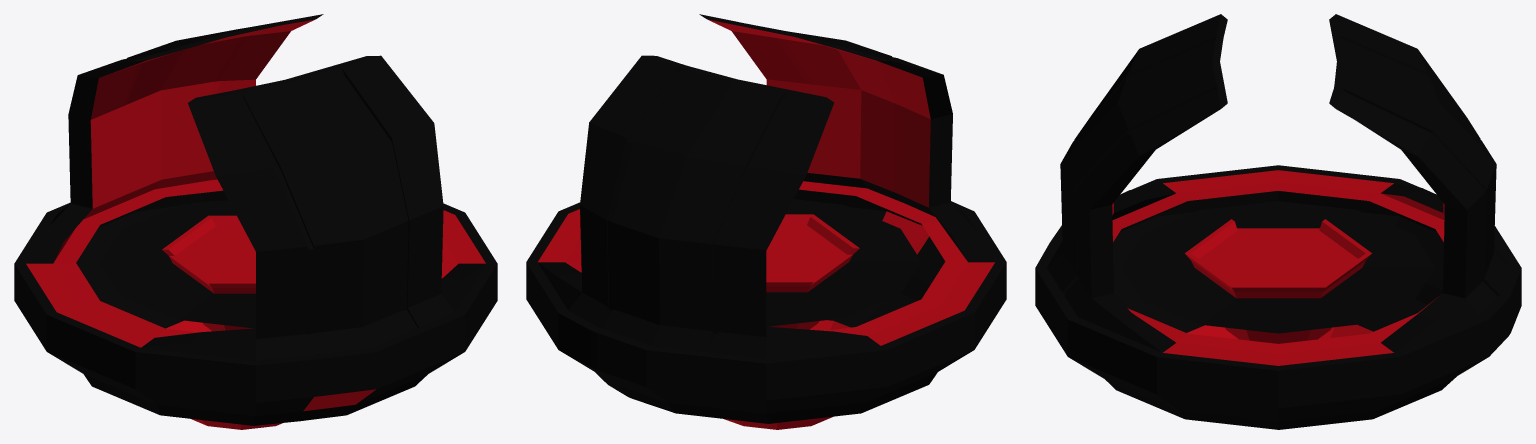
The model's file is Teleport Platform 1.fbx.
3 renders of one model, left to right at view 1: azimuth 30°, elevation 25°; view 2: azimuth 150°, elevation 25°; view 3: azimuth 270°, elevation 25°, orthographic.
Visible parts, largest first — view 1: Teleport Platform; view 2: Teleport Platform; view 3: Teleport Platform.
Part boxes in pixels (bbox=[...]): Teleport Platform: bbox=[14, 14, 497, 429]; Teleport Platform: bbox=[526, 14, 1006, 429]; Teleport Platform: bbox=[1035, 14, 1521, 429].
Bounding box in the file's own units: 9.27 × 7.43 × 9.27.
